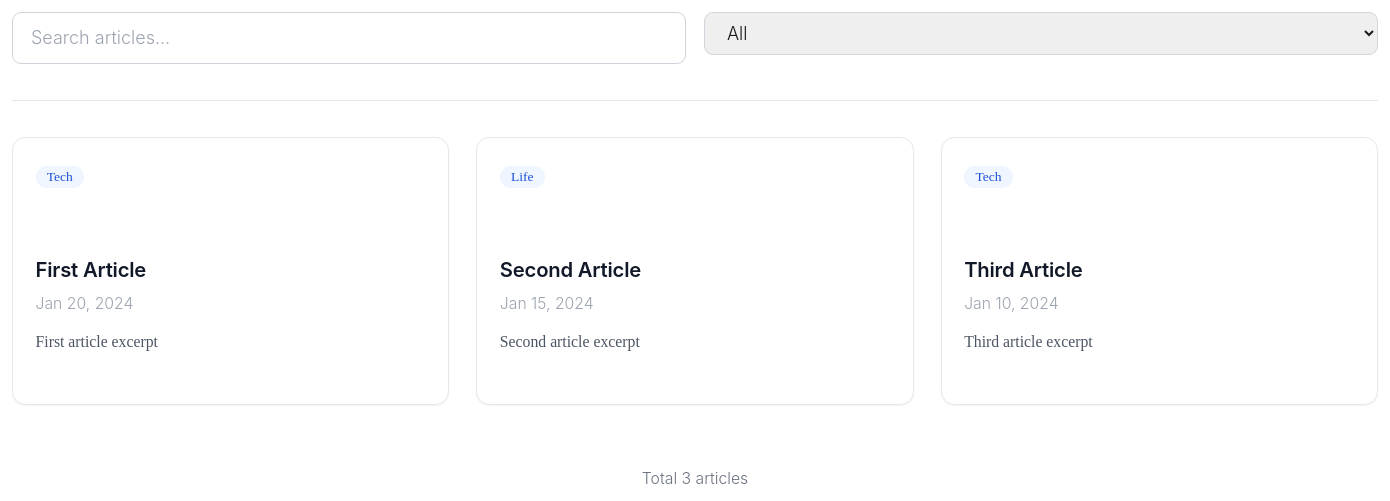
Test: PostsClient › 分类筛选功能正常工作
Step 1. Select "Tech" in the dropdown → x=1041, y=34, box [704, 12, 1378, 55]
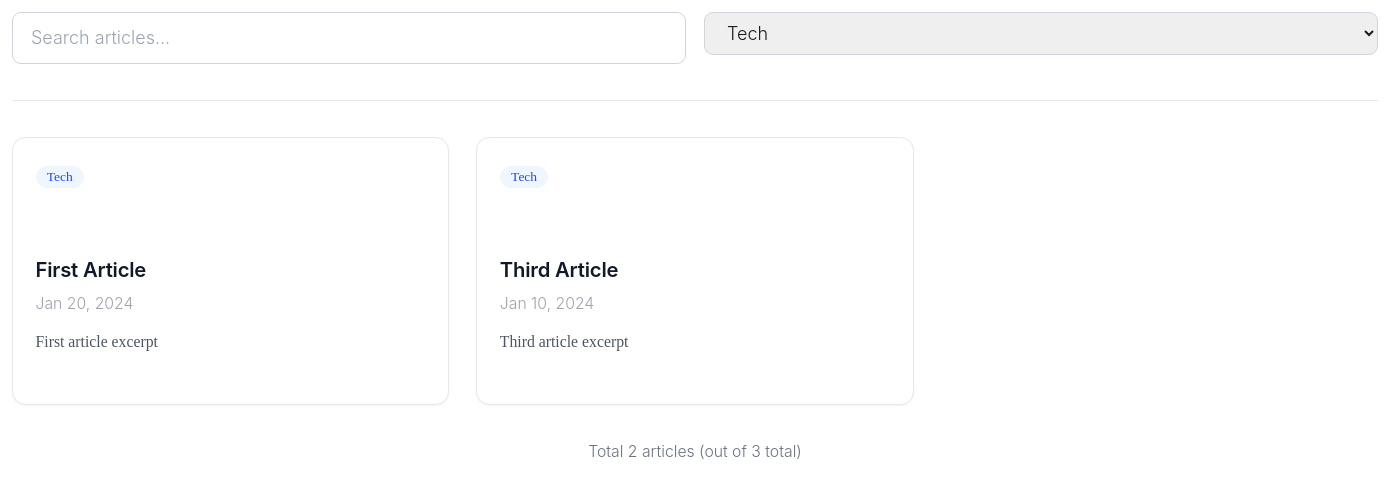
Expected: the heading "First Article" is shown, [36, 257, 146, 282]
Expected: the link "Second Article" is gone
